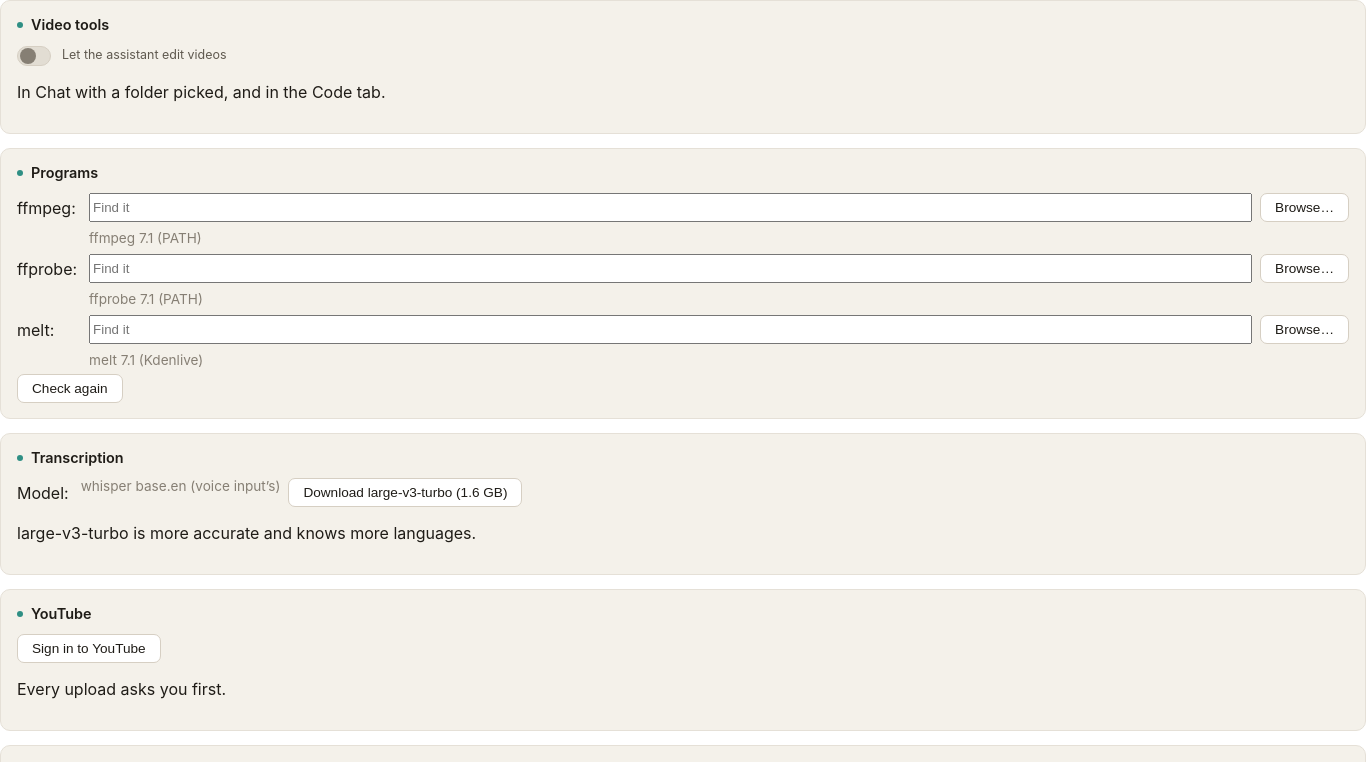
Test: VideoEditingSection › signs in to YouTube for uploads
Click the button "Sign in to YouTube": (89, 648) [17,634,161,663]
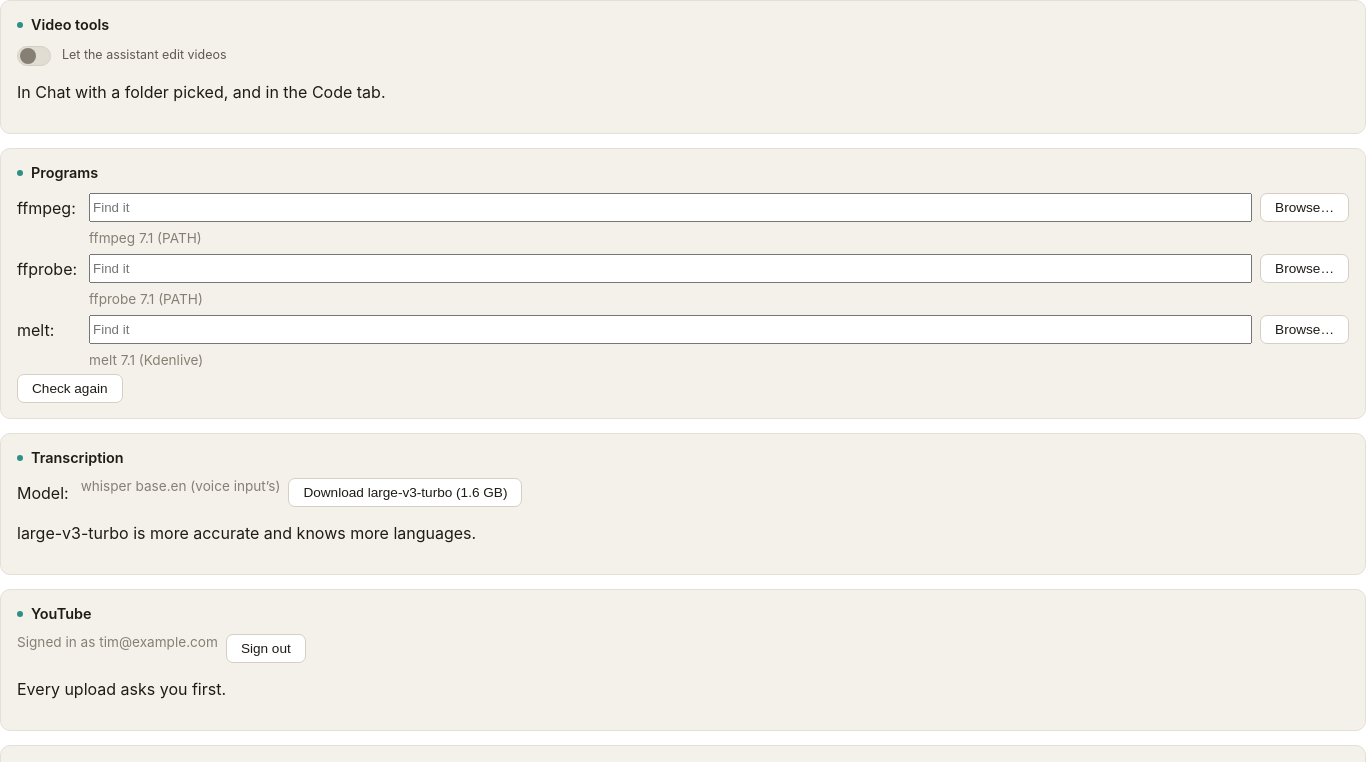
Expected: the text "Signed in as tim@example.com" is shown, [17,634,218,650]
